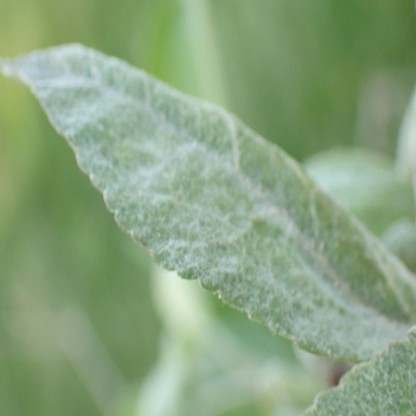powdery_mildew: (0, 41, 416, 350), (305, 350, 416, 415)
